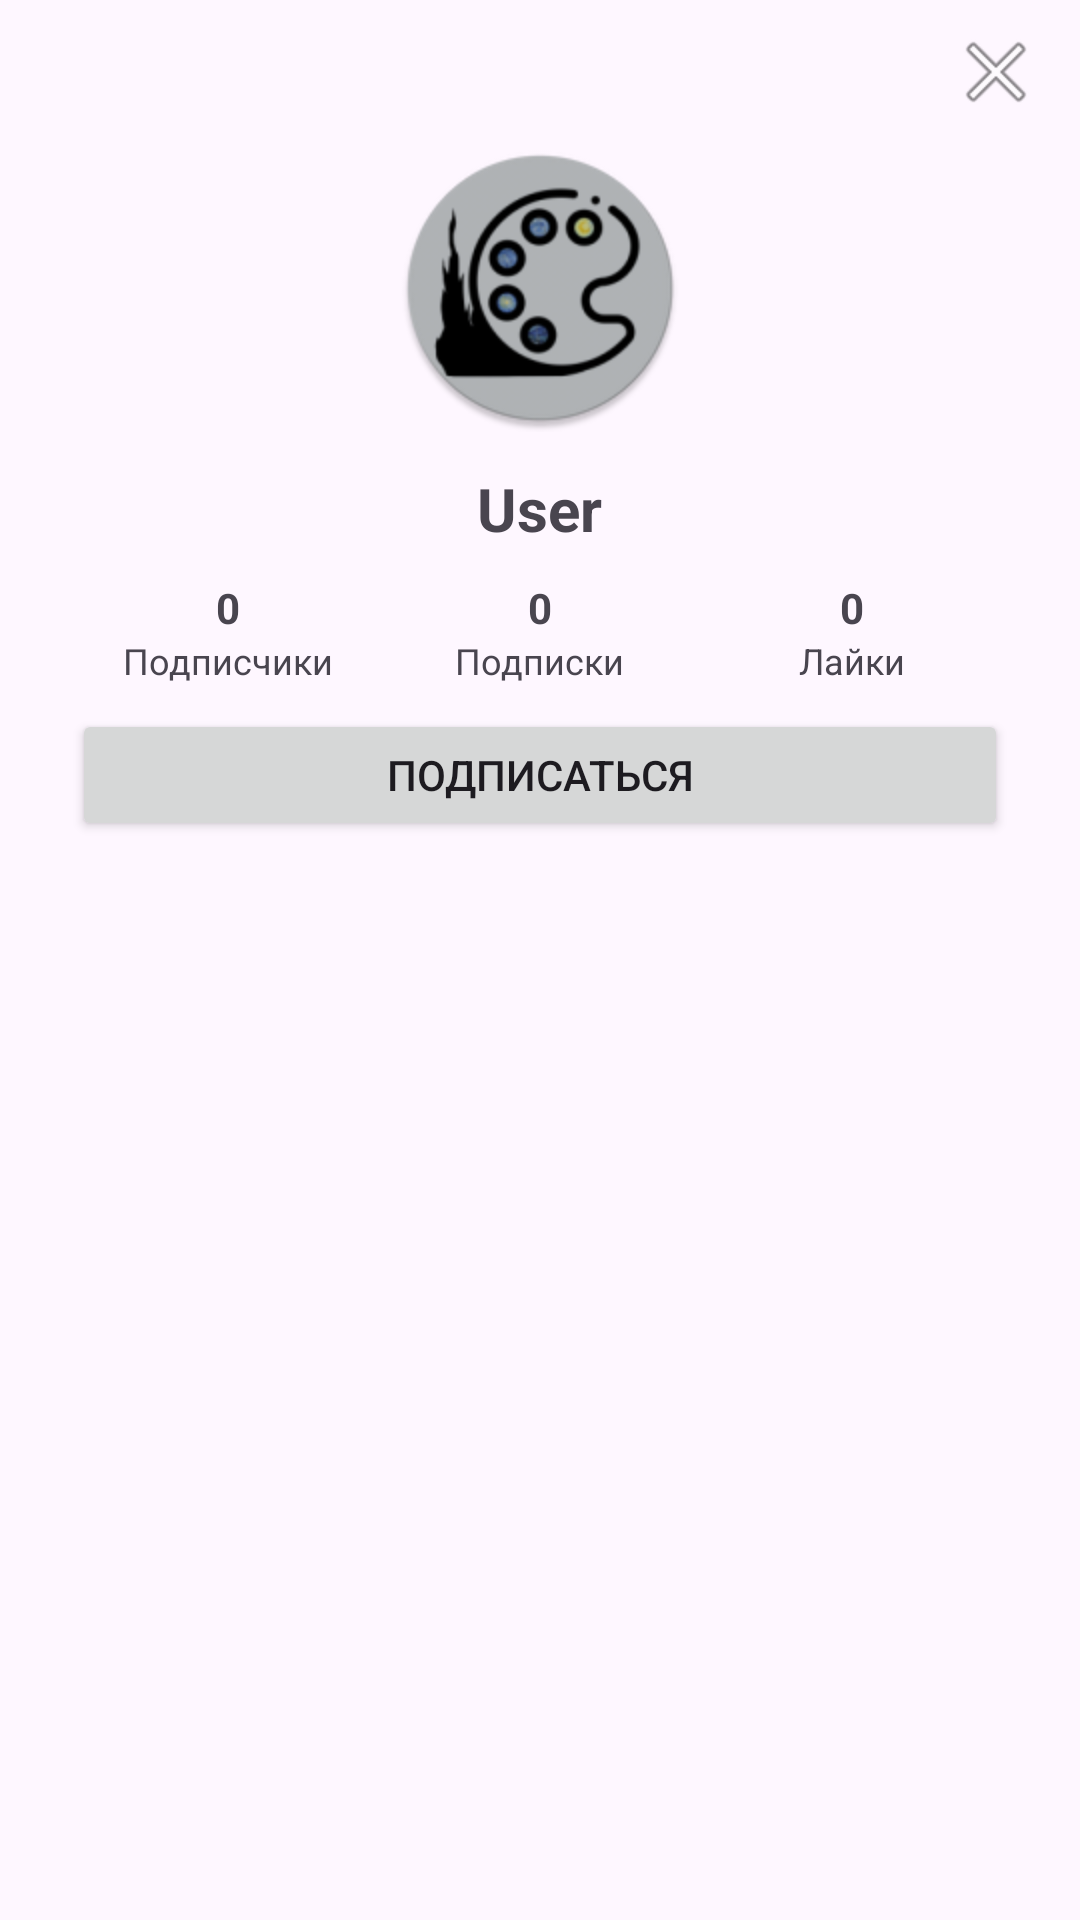

Screen size 1080 × 1920. Icon name, then its box in pixels as detection(x1, y1, x2, y2):
Закрыть: detection(966, 42, 1026, 102)
